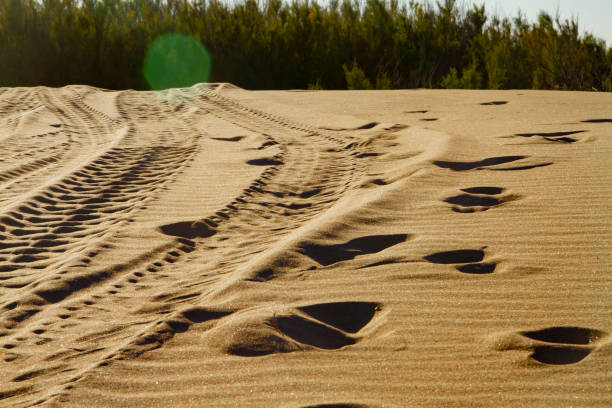human_foot_print: (523, 309, 609, 382), (284, 301, 384, 358), (448, 171, 511, 218), (436, 241, 501, 276), (323, 228, 400, 257), (439, 148, 511, 176)
vehicle_track: (0, 89, 363, 403), (0, 90, 198, 371), (0, 124, 196, 304), (195, 90, 362, 269), (0, 88, 113, 294), (0, 87, 118, 210), (0, 88, 78, 207)
